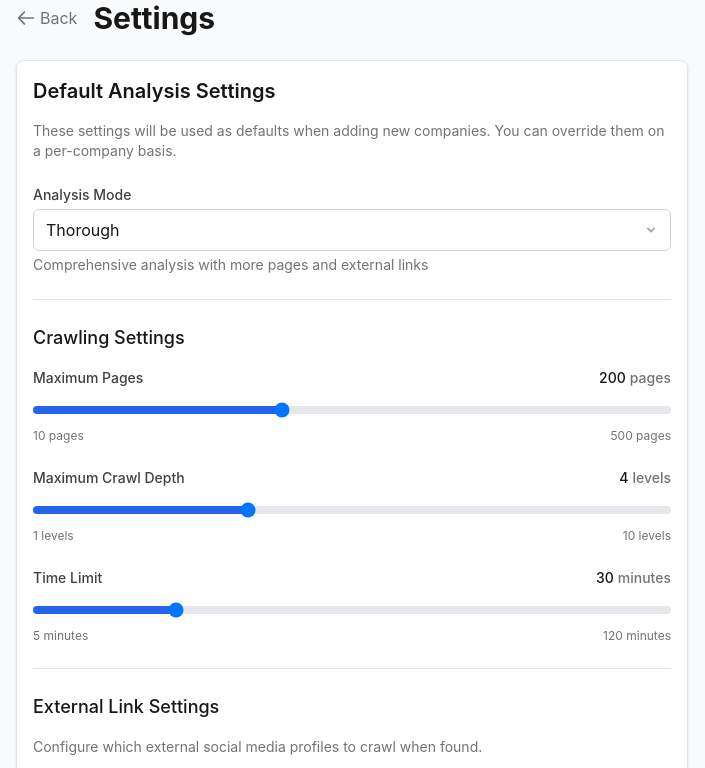
it: TestConfigurationPersistence › reset button restores defaults
Change from default
Select "Quick" in the dropdown labelled "Analysis Mode" at point(352, 230), box [33,209,671,251]
(page scrolled)
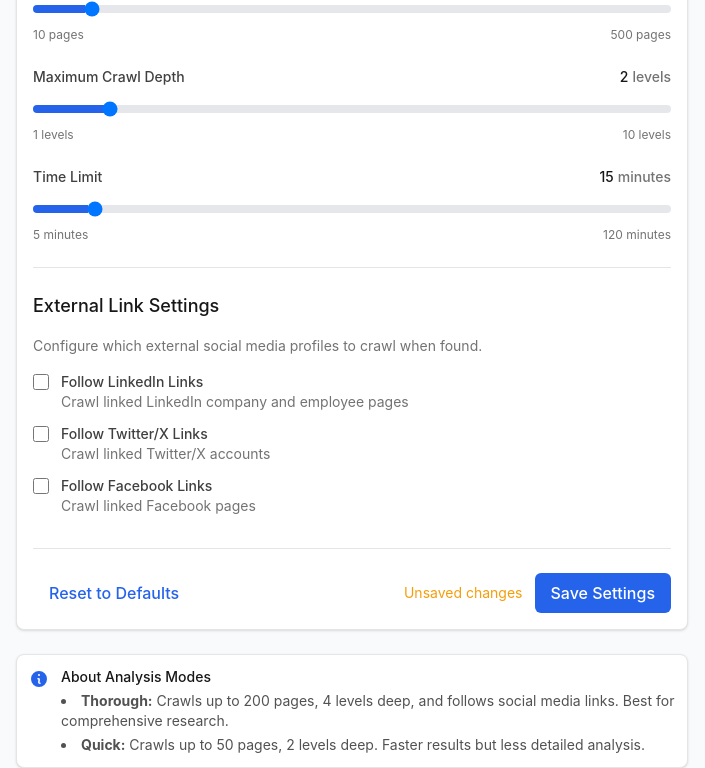
Result: the slider labelled "Maximum Pages" holds "50" at [33,5,671,13]
Click reset button
Click the button "Reset to Defaults" at point(114, 593), box [33,573,195,613]
(page scrolled)
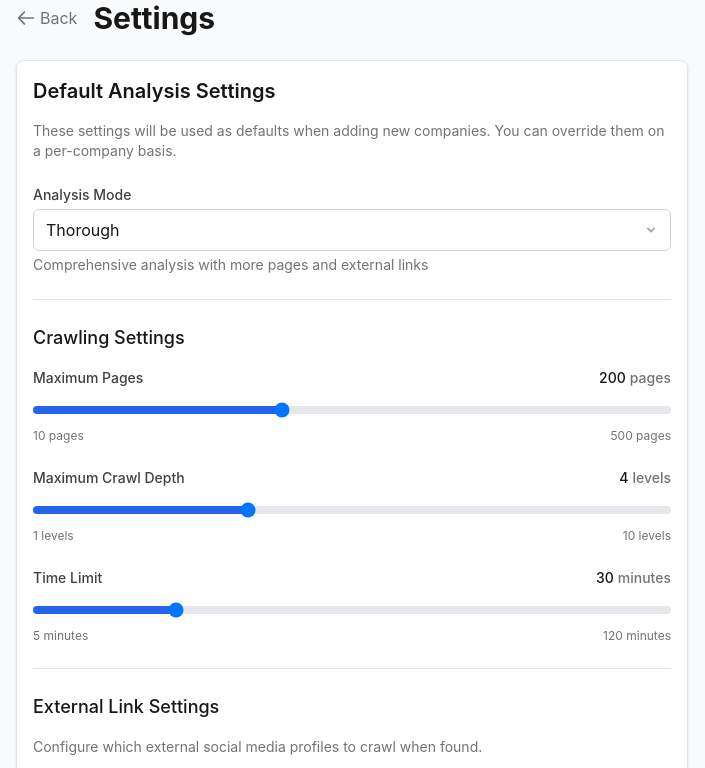
Result: the slider labelled "Maximum Pages" holds "200" at [33,406,671,414]
